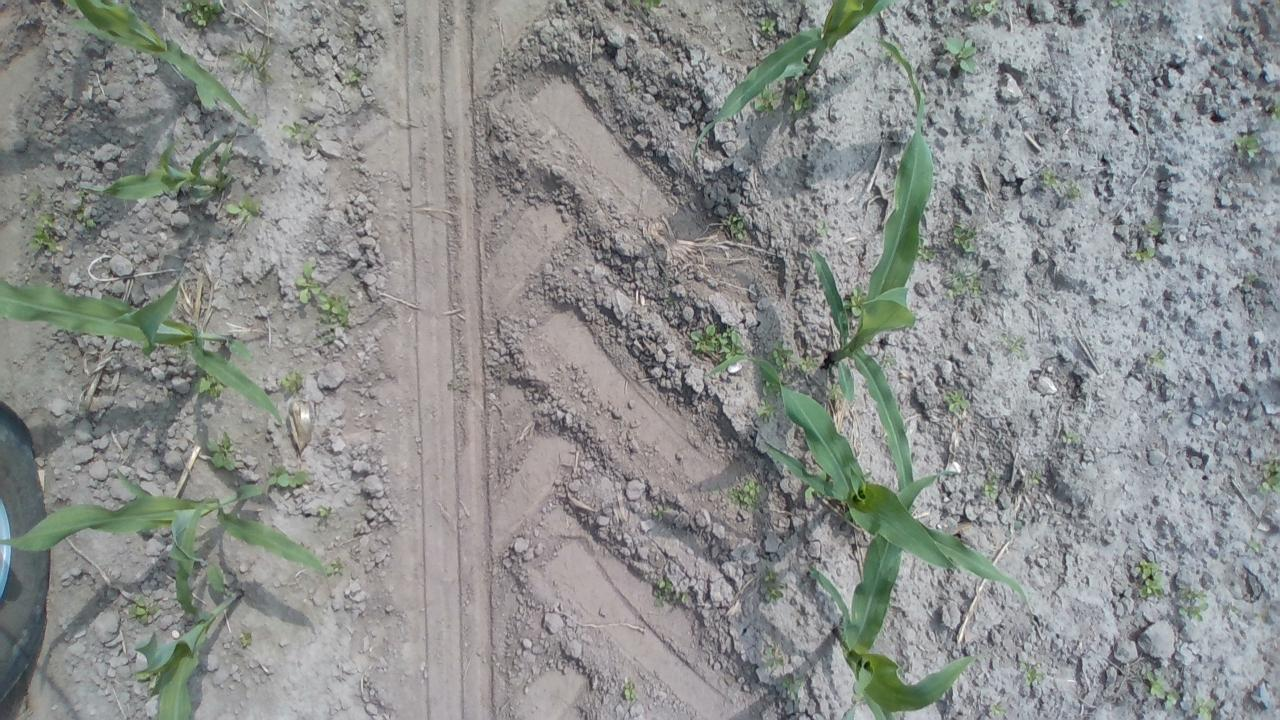Maize: (705, 355, 1033, 618), (810, 38, 934, 490), (808, 470, 994, 720), (0, 276, 283, 428), (0, 467, 328, 577), (693, 0, 893, 171), (133, 500, 246, 720), (61, 1, 252, 119), (80, 135, 234, 200)
Weeds: (208, 36, 276, 88), (689, 323, 744, 358), (27, 212, 60, 256), (942, 269, 987, 301), (174, 0, 225, 28), (1134, 558, 1168, 599), (1144, 669, 1180, 707), (316, 290, 352, 326), (1176, 586, 1212, 622), (650, 574, 688, 608), (944, 36, 978, 74), (207, 430, 238, 470), (126, 594, 162, 628), (294, 260, 320, 305), (997, 330, 1031, 363), (728, 478, 764, 509), (222, 194, 262, 221), (1258, 450, 1280, 496), (266, 464, 308, 488), (760, 564, 786, 601), (950, 221, 976, 255), (842, 280, 864, 316), (780, 671, 804, 703), (944, 386, 972, 413), (725, 214, 750, 243), (280, 368, 304, 397), (1019, 660, 1045, 686), (1234, 134, 1260, 159), (762, 646, 786, 672), (754, 88, 780, 112), (1192, 693, 1216, 719), (772, 338, 794, 366), (281, 120, 310, 141), (967, 0, 1000, 17), (194, 376, 222, 396), (788, 87, 812, 110), (756, 397, 778, 422), (982, 468, 998, 502), (918, 235, 936, 264), (1144, 348, 1168, 369), (796, 354, 819, 374), (1130, 244, 1155, 262), (1143, 214, 1162, 236), (24, 187, 46, 205), (1041, 164, 1058, 187), (344, 63, 362, 84), (326, 556, 344, 576), (825, 382, 843, 400), (759, 15, 776, 34), (631, 0, 663, 10), (314, 332, 336, 346), (624, 682, 638, 702), (656, 502, 670, 522), (814, 218, 828, 238), (882, 354, 899, 370), (1065, 182, 1082, 198), (1060, 430, 1079, 444), (988, 702, 1008, 715), (239, 630, 253, 648), (1028, 470, 1044, 485), (1271, 96, 1280, 121), (72, 186, 88, 200), (1225, 600, 1240, 614), (72, 206, 85, 222), (1109, 0, 1134, 7), (1246, 540, 1262, 550), (1246, 273, 1258, 285), (1256, 610, 1268, 622), (447, 378, 458, 391), (318, 507, 332, 517), (86, 218, 96, 229), (628, 83, 636, 93)
